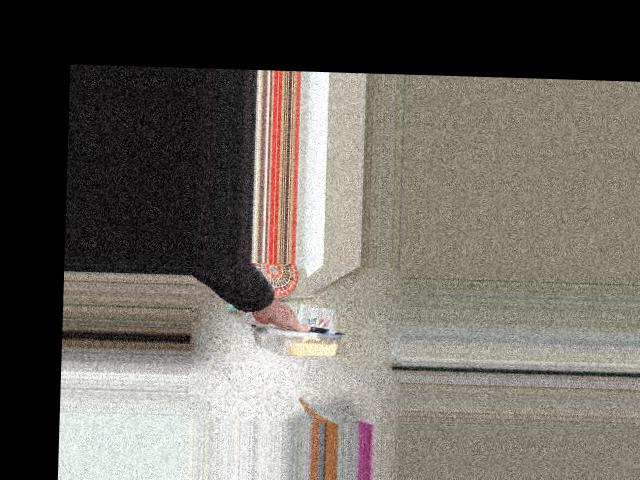cheese: (234, 282, 336, 381)
